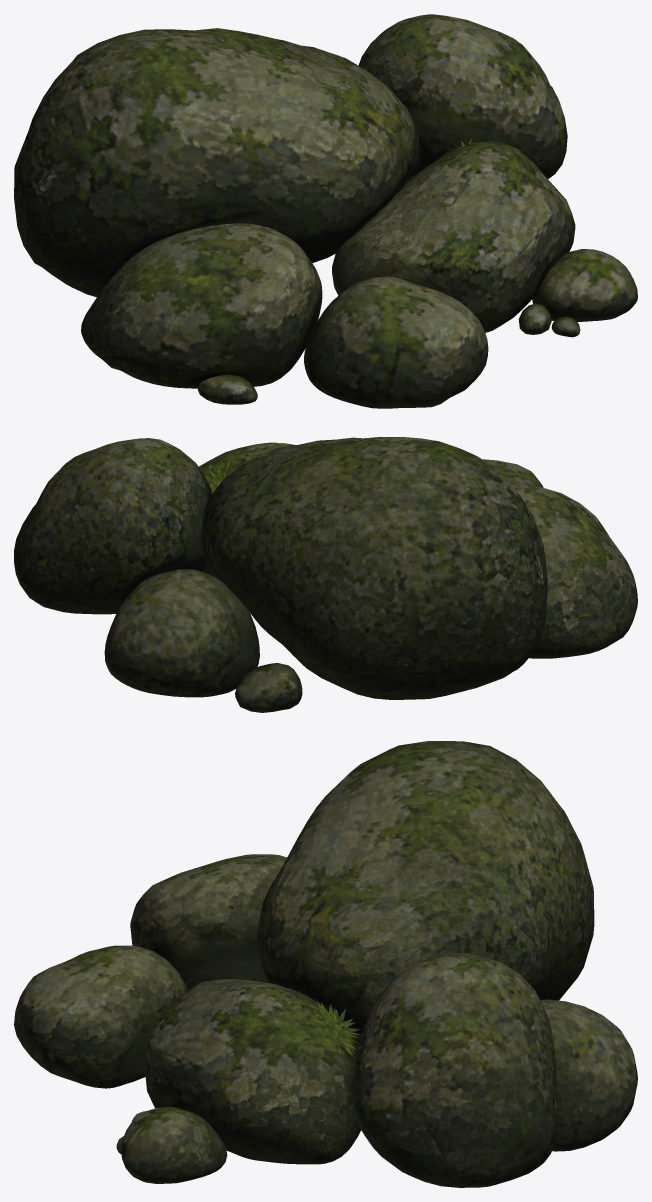
File: clutter_riverbank_stones.glb
3 renders of one model, top to bottom at view 1: azimuth 30°, elevation 25°; view 2: azimuth 150°, elevation 25°; view 3: azimuth 270°, elevation 25°, orthographic. The views are drawn at different scales.
Visible parts, largest first — view 1: tripo_12d48512_b812_4920_b590_1bd0f09de34b; view 2: tripo_12d48512_b812_4920_b590_1bd0f09de34b; view 3: tripo_12d48512_b812_4920_b590_1bd0f09de34b.
Part boxes in pixels (left/top/right/bottom): tripo_12d48512_b812_4920_b590_1bd0f09de34b: left=14, top=14, right=637, bottom=408; tripo_12d48512_b812_4920_b590_1bd0f09de34b: left=14, top=437, right=637, bottom=712; tripo_12d48512_b812_4920_b590_1bd0f09de34b: left=14, top=741, right=637, bottom=1187.
Bounding box in the file's own units: 0.9995 × 0.4556 × 0.9302.
Materials: 1 (1 with a texture image).
